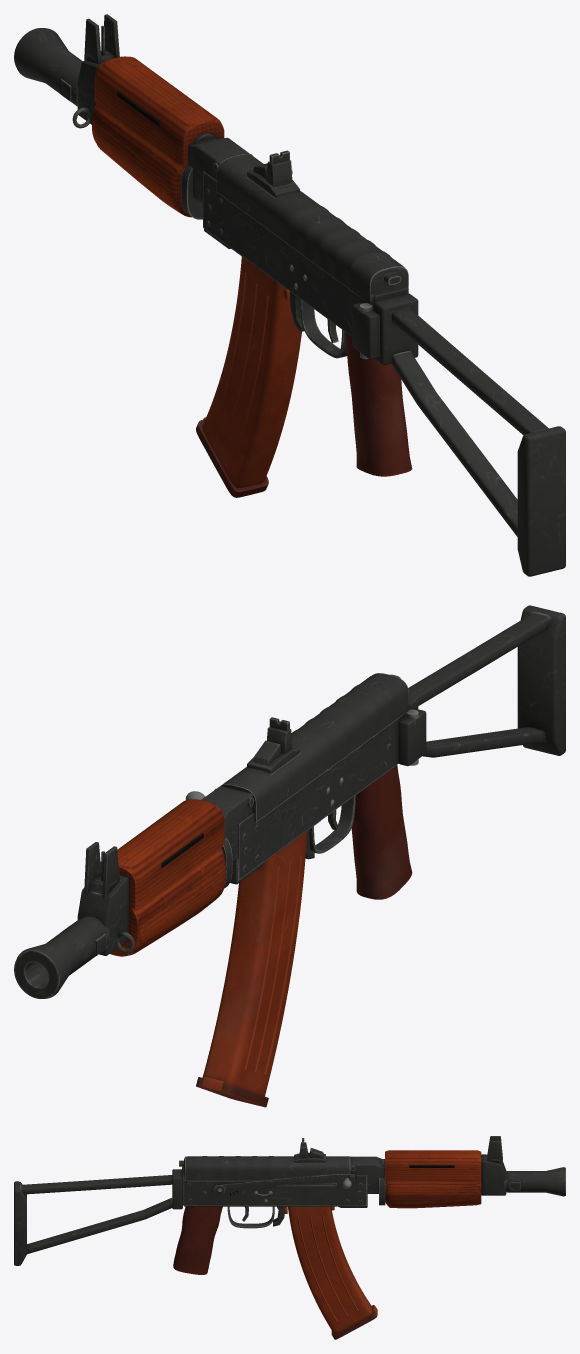
The model's file is aks74u.glb.
3 views of the same model, one above another, from view 1: azimuth 30°, elevation 25°; view 2: azimuth 150°, elevation 25°; view 3: azimuth 270°, elevation 25° (orthographic). The views are drawn at different scales.
Visible parts, largest first — view 1: aks74u_body, mag; view 2: aks74u_body, mag; view 3: aks74u_body, mag.
Boxes of the visible parts, x1,y1,x2,y2 form: aks74u_body: (14, 14, 565, 576); mag: (196, 256, 301, 497); aks74u_body: (14, 605, 565, 998); mag: (196, 831, 307, 1107); aks74u_body: (14, 1136, 565, 1274); mag: (284, 1206, 377, 1339).
Bounding box in the file's own units: 0.0687 × 0.2874 × 0.729.
Materials: 1 (1 with a texture image).
